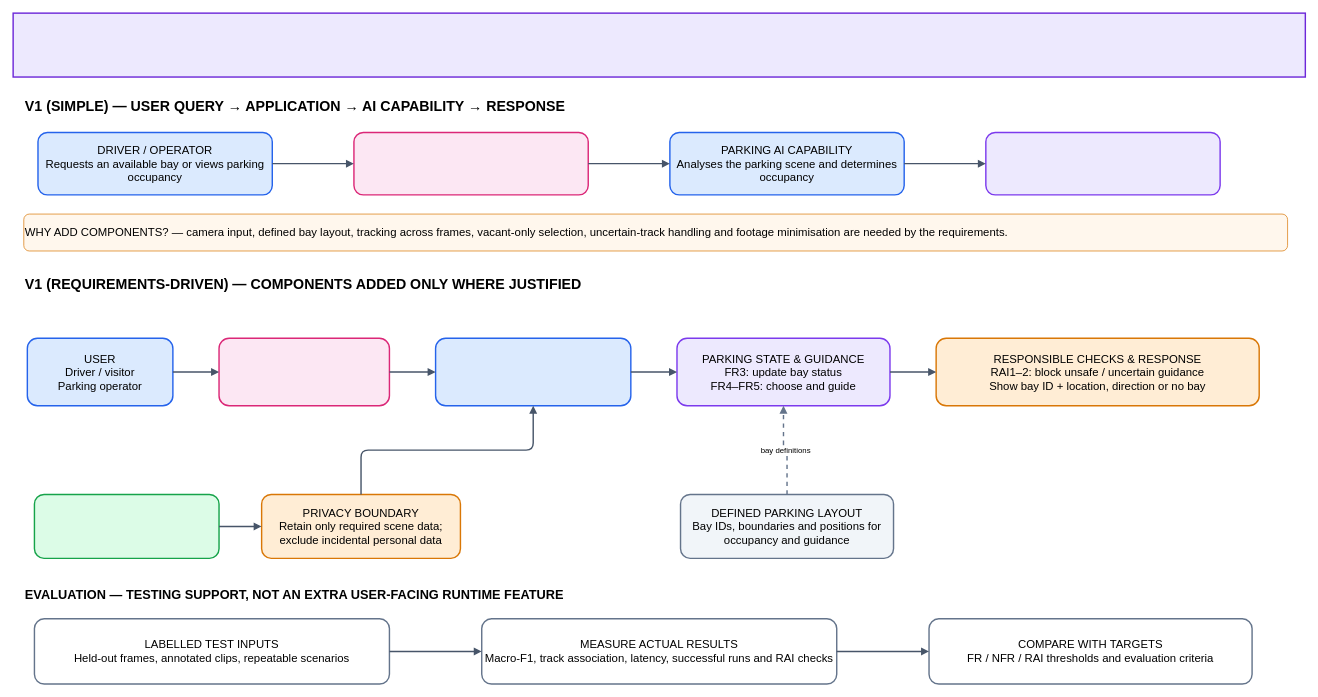
Some shapes in this 1318 by 697 pixel diagram are drawn without their labels. The centre of each missing label's shape, as x and y in pixels:
"CAMERA INPUT Images / video frames from the miniature parking scene" belongs at (126,526).
"RESPONSE Occupancy result or available-bay guidance" belongs at (1102,163).
"SMARTPARK AI — REQUIREMENTS-DRIVEN APPLICATION ARCHITECTURE" belongs at (659,44).
"SMARTPARK APP / UI Request a vacant bay View current occupancy" belongs at (304,371).
"SMARTPARK APPLICATION Receives the request and presents the result" belongs at (471,163).
"VISION AI CAPABILITY FR1: bay occupancy FR2: vehicle tracking" belongs at (533,371).
